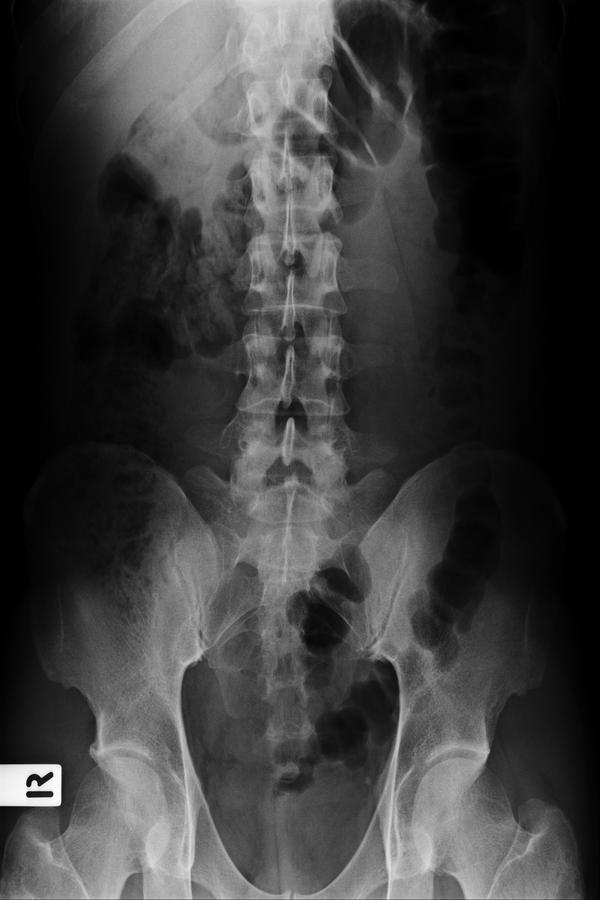not lumbar scoliosis: (226, 156, 357, 532)
